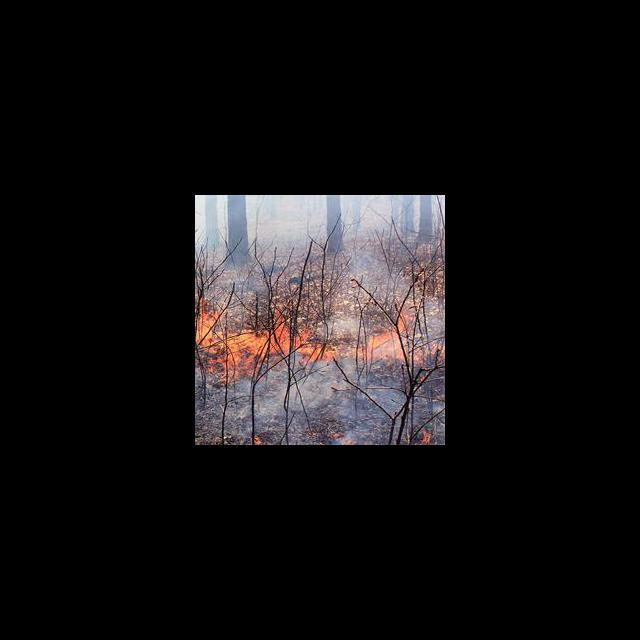Fire: (196, 300, 338, 382), (359, 312, 445, 366), (413, 426, 433, 444), (251, 436, 266, 444)
Smoke: (245, 372, 436, 426), (334, 247, 436, 307)
